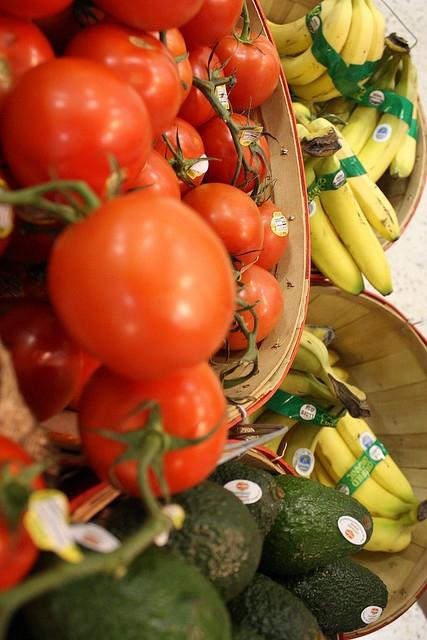avocado: (4, 541, 234, 640), (86, 480, 263, 604), (258, 474, 374, 575), (270, 556, 390, 634), (224, 571, 326, 639), (206, 461, 284, 542)
banana: (307, 118, 400, 242), (313, 154, 393, 296), (315, 426, 420, 520), (304, 154, 364, 296), (292, 0, 374, 102), (336, 411, 424, 505), (358, 51, 418, 182), (288, 330, 372, 421), (340, 52, 402, 157), (280, 0, 352, 86), (258, 396, 338, 454), (266, 0, 340, 54), (278, 422, 328, 479), (356, 0, 386, 87), (362, 508, 418, 554), (390, 89, 418, 180), (278, 369, 342, 403), (302, 323, 337, 347), (292, 102, 312, 127)
tomato: (46, 193, 236, 378), (5, 57, 153, 203), (80, 360, 229, 500), (64, 20, 181, 143), (0, 297, 81, 423), (195, 93, 282, 193), (102, 15, 192, 105), (0, 433, 47, 592), (182, 182, 264, 272), (214, 0, 280, 111), (153, 116, 222, 198), (221, 264, 284, 351), (30, 0, 119, 57), (0, 14, 56, 104), (248, 172, 290, 272), (178, 47, 226, 129), (93, 0, 203, 31), (176, 0, 244, 49), (122, 148, 181, 202), (66, 347, 103, 411), (0, 0, 73, 19)
